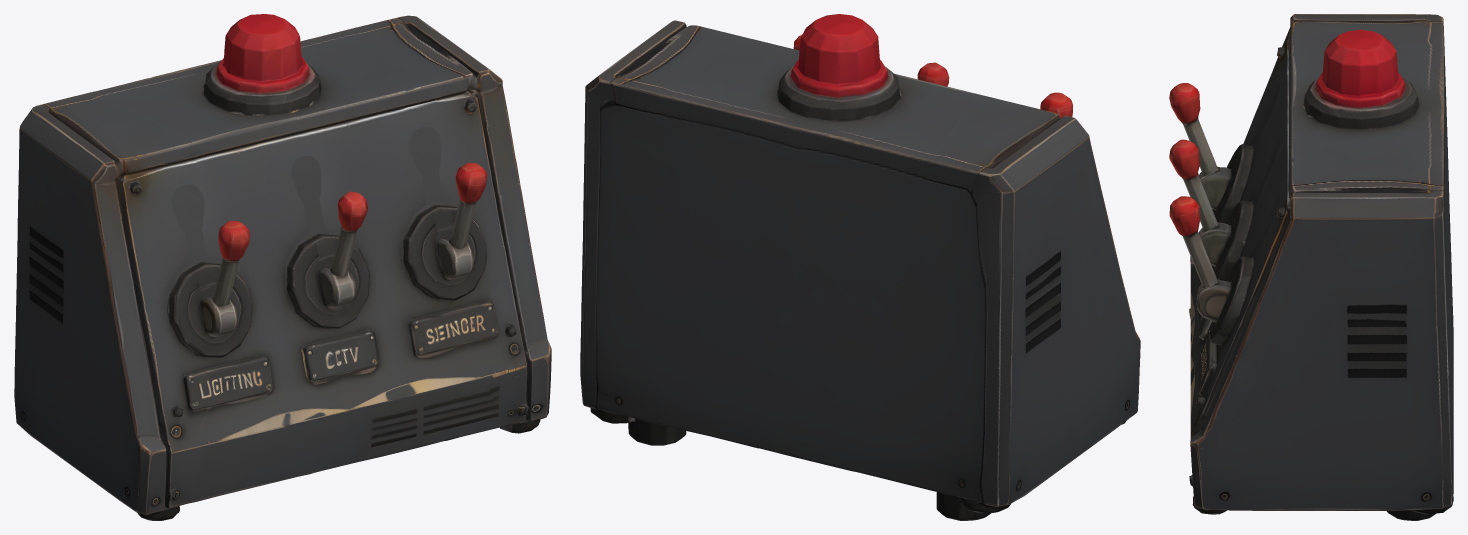
Rendered from switch.glb.
The picture shows the model from 3 angles, left to right: view 1: azimuth 30°, elevation 25°; view 2: azimuth 150°, elevation 25°; view 3: azimuth 270°, elevation 25°; orthographic projection. The views are drawn at different scales.
Parts seen in each view (by area): view 1: tripo_node_72e1788a-a65e-4ae6-ab93-3c9f828b8d8b; view 2: tripo_node_72e1788a-a65e-4ae6-ab93-3c9f828b8d8b; view 3: tripo_node_72e1788a-a65e-4ae6-ab93-3c9f828b8d8b.
Boxes of the visible parts, left/top/right/bottom form: tripo_node_72e1788a-a65e-4ae6-ab93-3c9f828b8d8b: left=14, top=14, right=551, bottom=520; tripo_node_72e1788a-a65e-4ae6-ab93-3c9f828b8d8b: left=580, top=14, right=1140, bottom=520; tripo_node_72e1788a-a65e-4ae6-ab93-3c9f828b8d8b: left=1169, top=14, right=1453, bottom=520.
Size of the model in its own units: 0.9999 by 0.9573 by 0.6121.
Materials: 1 (1 with a texture image).
